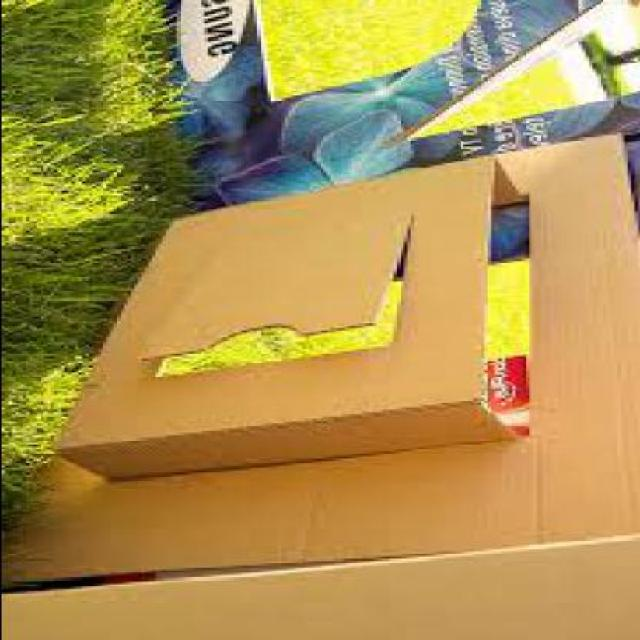CARDBOARD: (1, 134, 638, 640), (49, 158, 536, 482), (164, 2, 638, 264)
